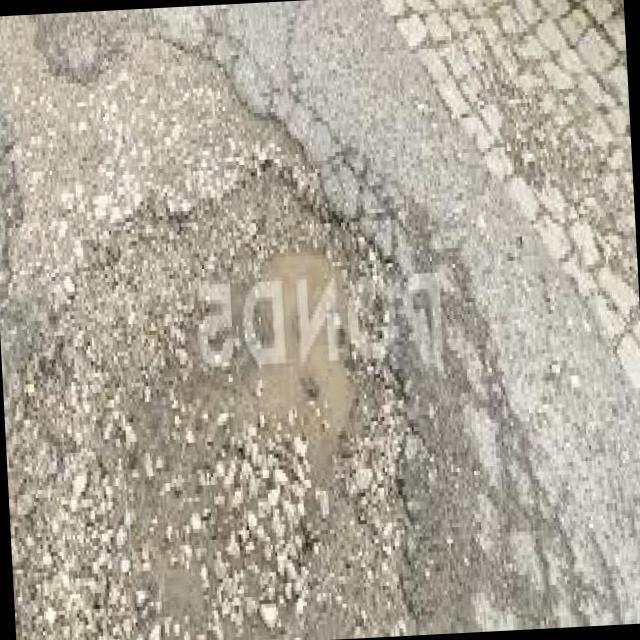Pothole: (188, 182, 380, 631)
